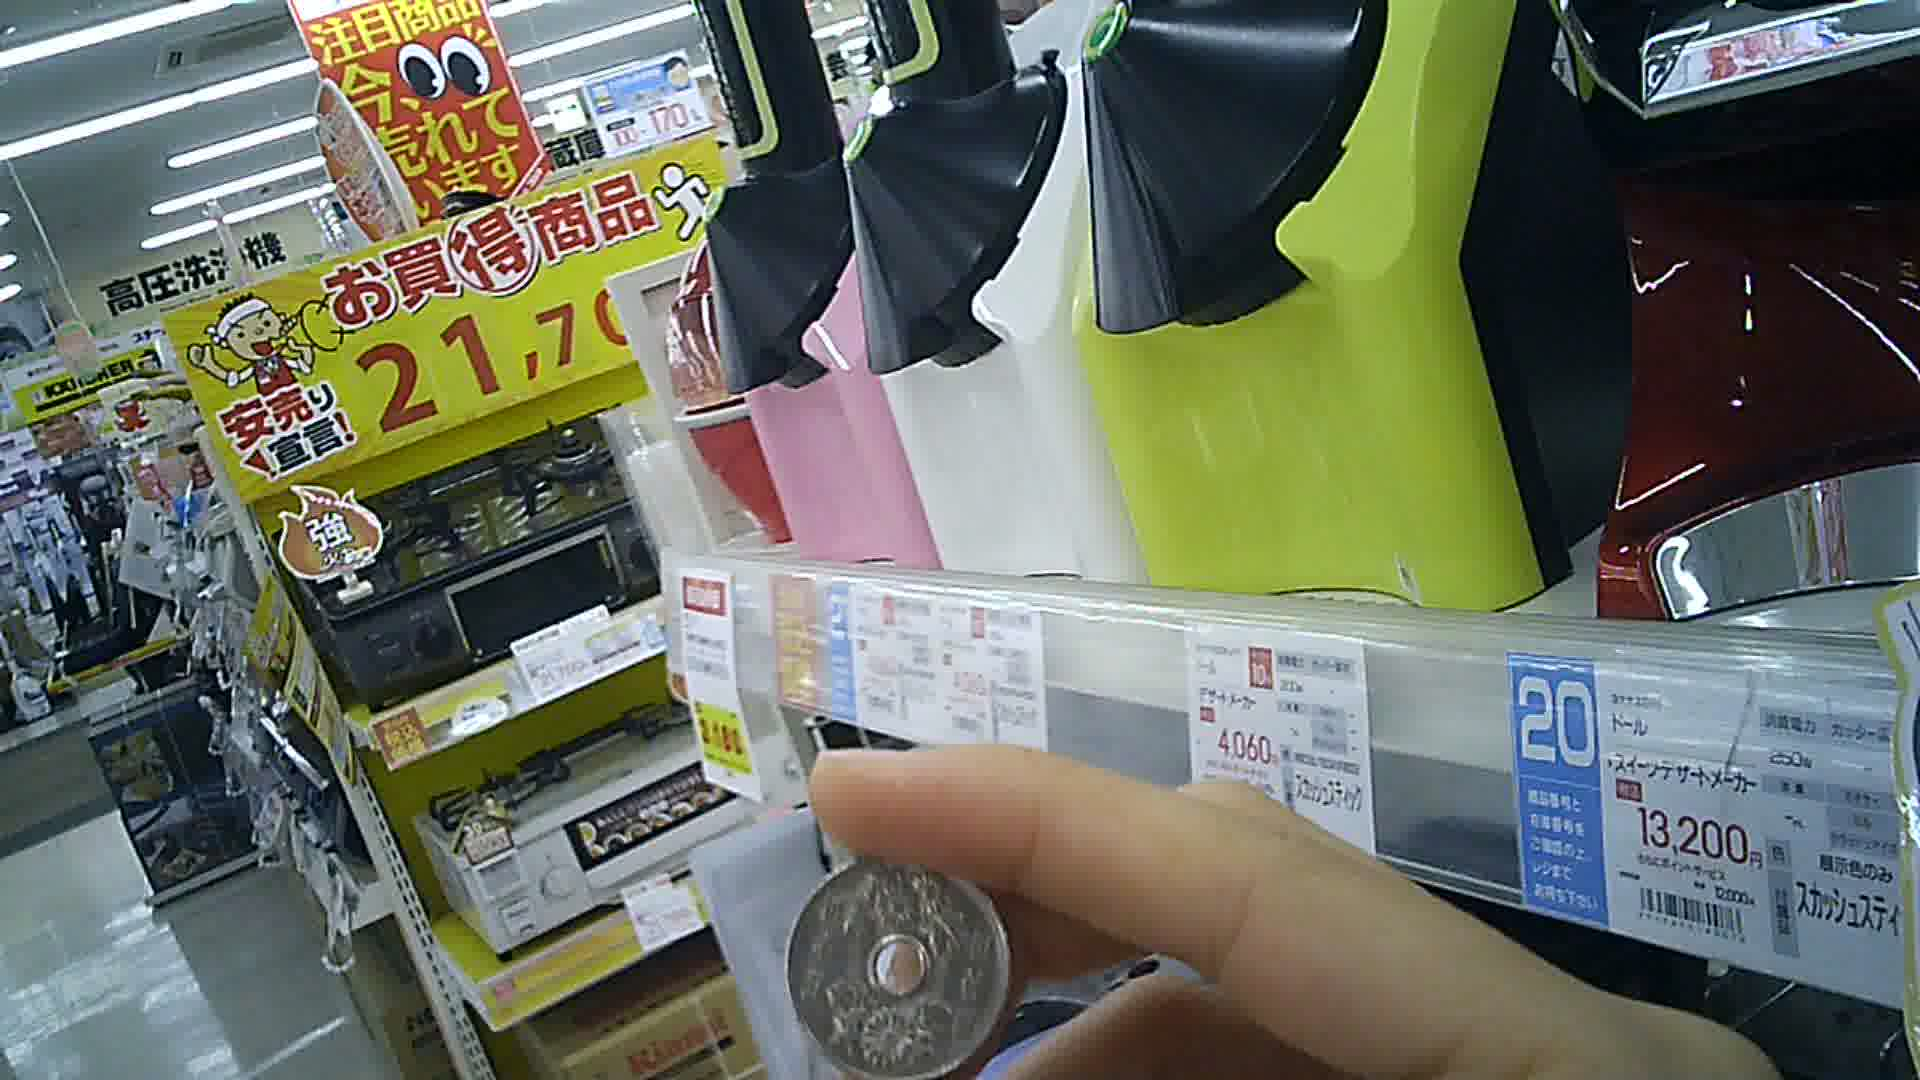50 Yen: (777, 848, 1017, 1069)
